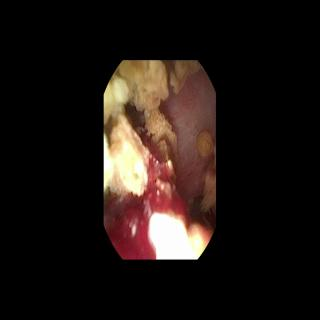stone: (105, 63, 177, 196), (170, 62, 198, 91), (197, 131, 214, 157)
